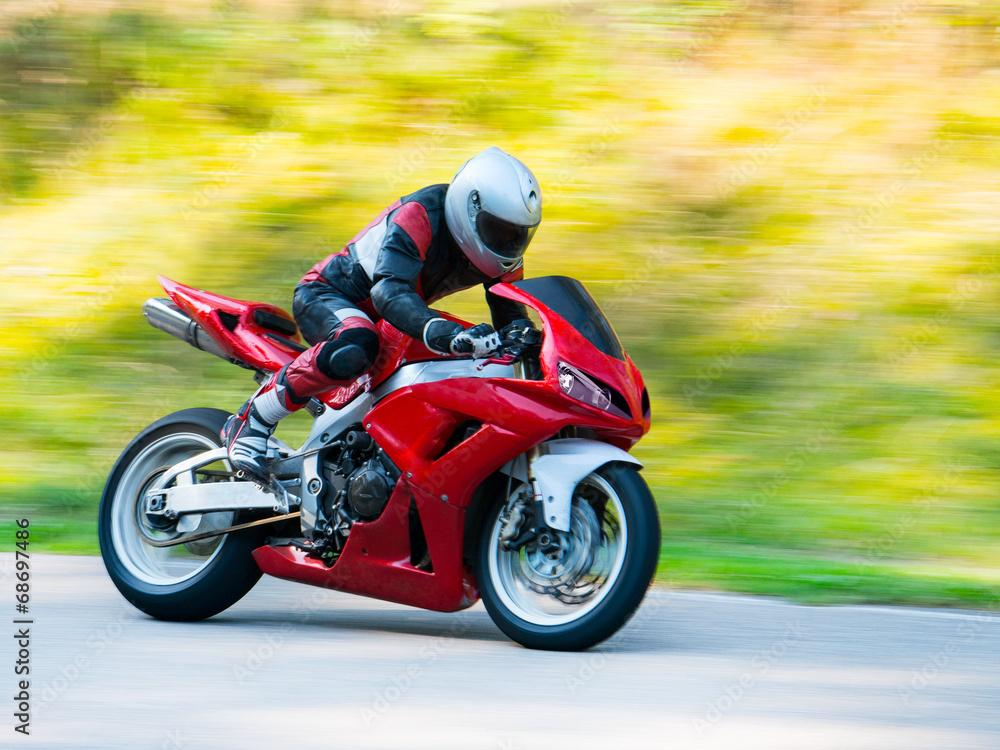helmet: (443, 144, 543, 283)
